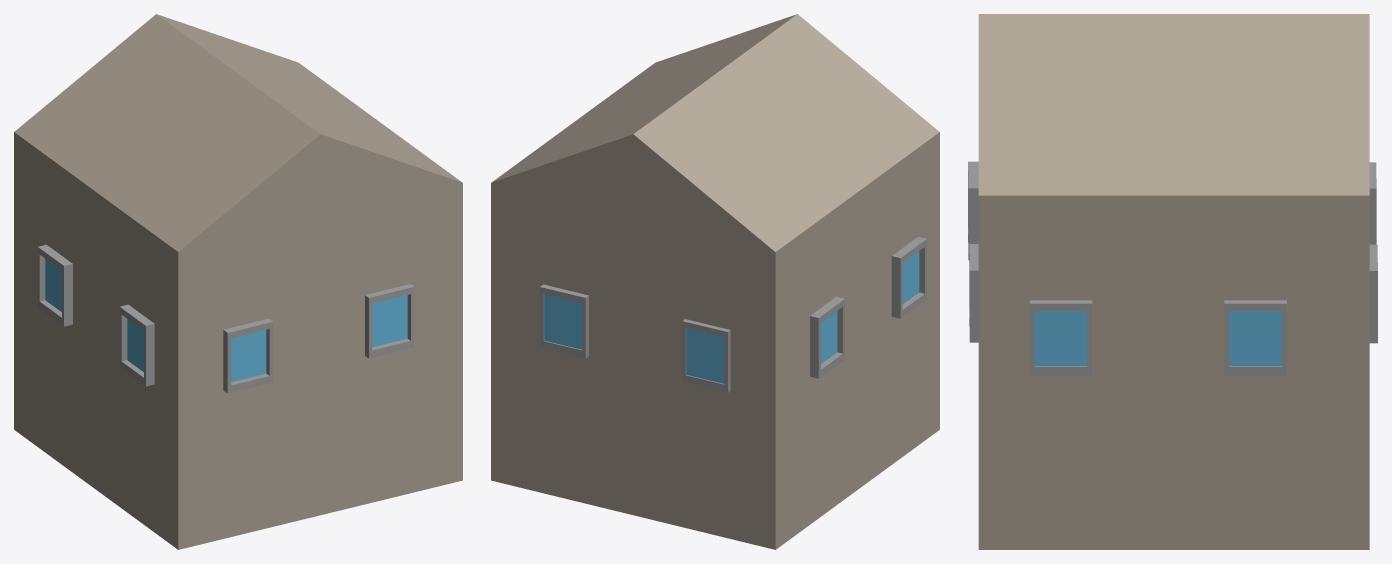
The model's file is House1.fbx.
3 views of the same model, side by side, from view 1: azimuth 30°, elevation 25°; view 2: azimuth 150°, elevation 25°; view 3: azimuth 270°, elevation 25° (orthographic). The views are drawn at different scales.
Parts seen in each view (by area): view 1: Cube, Cube.005, Cube.015, Cube.001, Cube.003, Cube.006, Cube.004, Cube.002, Cube.016; view 2: Cube, Cube.010, Cube.008, Cube.015, Cube.001, Cube.007, Cube.009, Cube.016, Cube.002; view 3: Cube, Cube.012, Cube.014, Cube.011, Cube.013, Cube.003, Cube.005, Cube.007, Cube.009.
Part boxes in pixels (x1,y1,x2,y2): Cube: [14, 14, 462, 549]; Cube.005: [223, 318, 273, 393]; Cube.015: [119, 304, 154, 386]; Cube.001: [37, 244, 72, 326]; Cube.003: [365, 284, 414, 358]; Cube.006: [231, 330, 266, 382]; Cube.004: [372, 295, 407, 347]; Cube.002: [45, 259, 61, 311]; Cube.016: [127, 319, 143, 371]; Cube: [491, 14, 939, 549]; Cube.010: [686, 328, 724, 383]; Cube.008: [544, 294, 582, 349]; Cube.015: [891, 237, 926, 318]; Cube.001: [810, 296, 844, 378]; Cube.007: [540, 284, 588, 358]; Cube.009: [682, 319, 730, 392]; Cube.016: [902, 251, 919, 303]; Cube.002: [821, 311, 837, 363]; Cube: [978, 14, 1369, 549]; Cube.012: [1034, 311, 1087, 366]; Cube.014: [1229, 311, 1281, 366]; Cube.011: [1029, 300, 1092, 375]; Cube.013: [1224, 300, 1286, 375]; Cube.003: [969, 244, 978, 342]; Cube.005: [968, 161, 978, 260]; Cube.007: [1369, 244, 1377, 343]; Cube.009: [1369, 162, 1376, 244].
Size of the model in its own units: 211 by 256 by 210.
